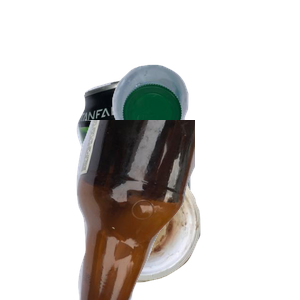glass: (60, 120, 300, 300)
metal: (74, 74, 257, 254)
plastic: (110, 62, 300, 198)
trash: (83, 163, 276, 300)
